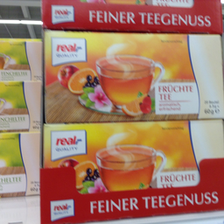tea: (44, 28, 224, 124), (43, 119, 224, 193)
